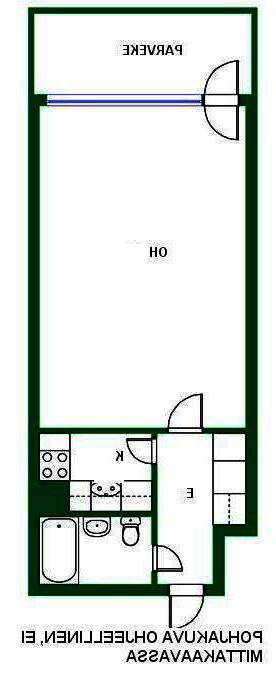bathroom: (39, 512, 156, 588)
door: (200, 94, 242, 142), (166, 582, 206, 630), (202, 59, 242, 105), (165, 392, 208, 434), (149, 543, 186, 575), (125, 436, 160, 466)
perimeter: (26, 92, 261, 600)
window: (41, 92, 207, 108)
